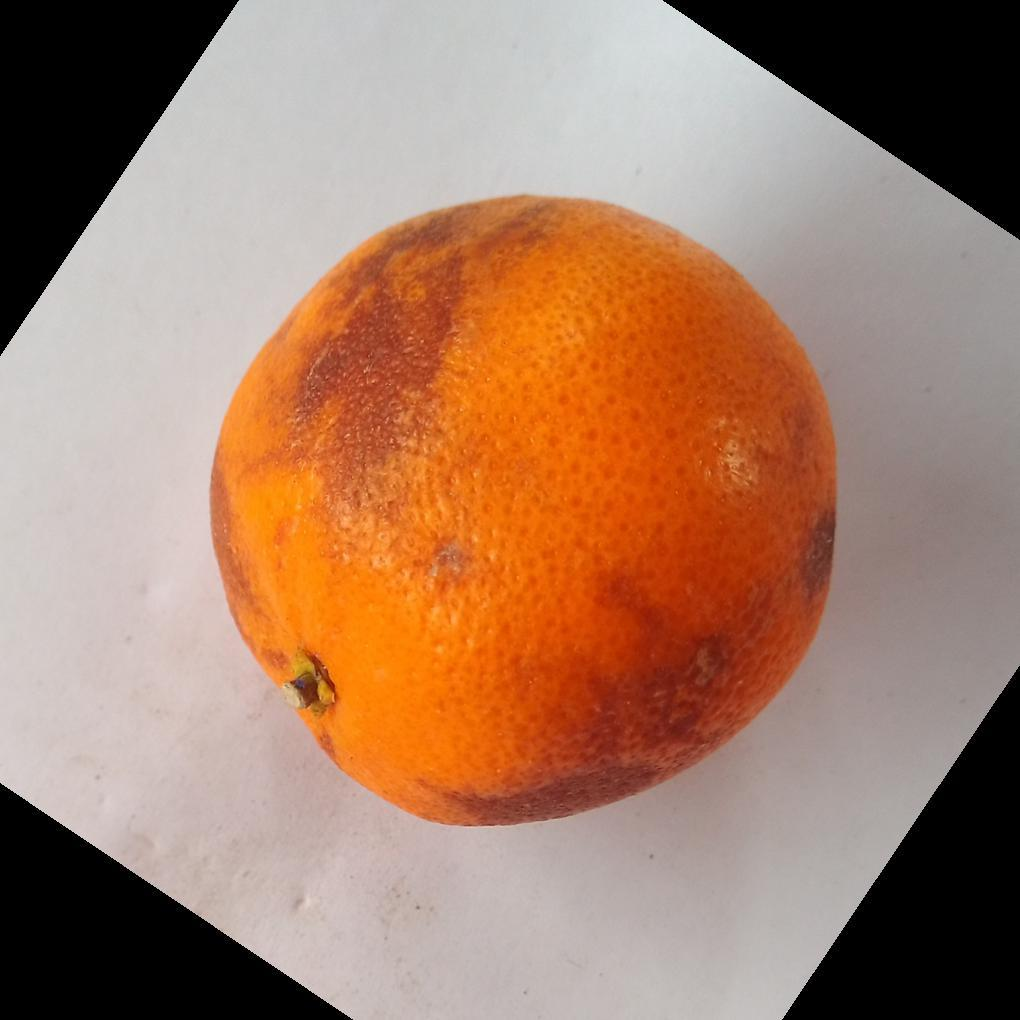FreshOrange: (207, 196, 839, 832)
